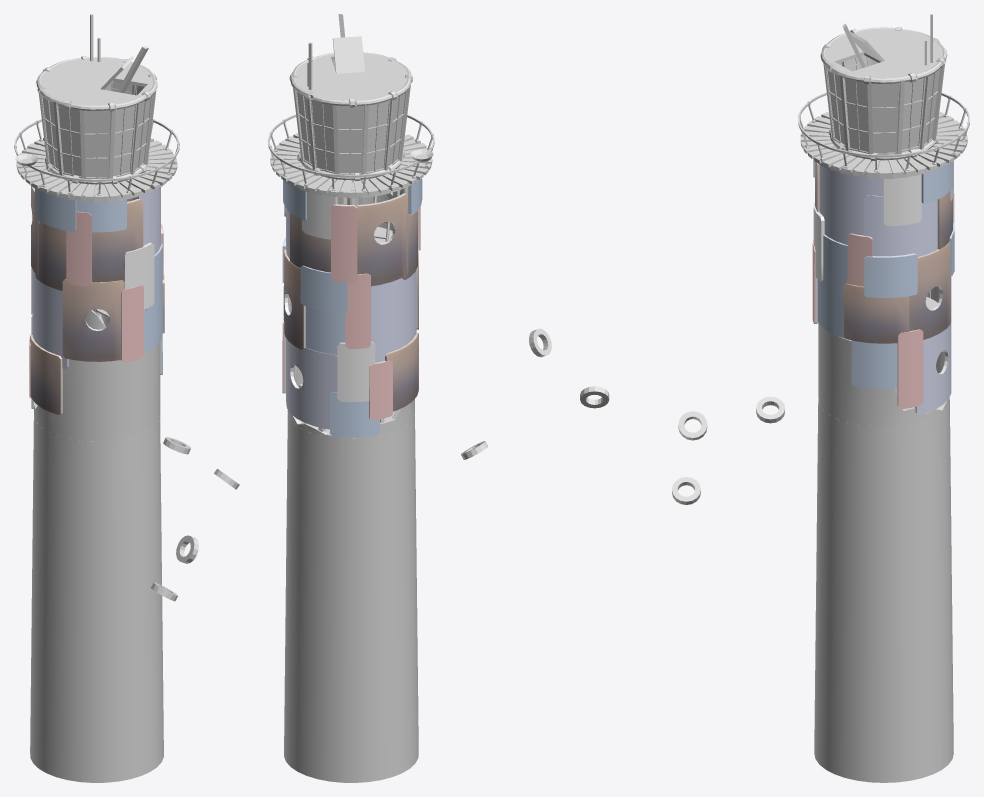
The model's file is TowerBlockout.fbx.
3 renders of one model, left to right at view 1: azimuth 30°, elevation 25°; view 2: azimuth 150°, elevation 25°; view 3: azimuth 270°, elevation 25°, orthographic. The views are drawn at different scales.
Visible parts, largest first — view 1: Cylinder.008, Cylinder.007, Panel_x5.005, Cylinder.003, Cube.003, Panel_x5.006, Panel_x7.002, Panel_x5.002, Panel_x5.007, Top Window.6, Panel_x2.004, Panel_x2.007 (+16 smaller); view 2: Cylinder.008, Panel_x5.008, Cylinder.003, Cube.003, Panel_x7.001, Panel_x7.002, Panel_x2.006, Panel_x3.001, Panel_x4.005, Panel_x2.003, Top Window.2, Panel_x5.002 (+18 smaller); view 3: Cylinder.008, Cylinder.007, Cube.003, Cylinder.003, Panel_x7.004, Panel_x5.001, Panel_x7.003, Panel_x5.003, Panel_x4.003, Panel_x4.001, Panel_x7.001, Panel_x2.001 (+13 smaller).
Boxes of the visible parts, left/top/right/bottom form: Cylinder.008: left=30, top=416, right=163, bottom=782; Cylinder.007: left=34, top=341, right=160, bottom=442; Panel_x5.005: left=62, top=279, right=124, bottom=361; Cylinder.003: left=40, top=57, right=154, bottom=107; Cube.003: left=16, top=137, right=177, bottom=199; Panel_x5.006: left=92, top=199, right=143, bottom=282; Panel_x7.002: left=32, top=269, right=68, bottom=369; Panel_x5.002: left=30, top=335, right=62, bottom=414; Panel_x5.007: left=35, top=218, right=66, bottom=290; Top Window.6: left=84, top=110, right=110, bottom=178; Panel_x2.004: left=121, top=285, right=144, bottom=362; Panel_x2.007: left=66, top=211, right=91, bottom=286; Cylinder.008: left=284, top=411, right=418, bottom=782; Panel_x5.008: left=356, top=193, right=408, bottom=286; Cylinder.003: left=293, top=53, right=409, bottom=104; Cube.003: left=270, top=133, right=432, bottom=195; Panel_x7.001: left=286, top=338, right=337, bottom=429; Panel_x7.002: left=371, top=270, right=416, bottom=362; Panel_x2.006: left=331, top=204, right=357, bottom=282; Panel_x3.001: left=337, top=341, right=375, bottom=402; Panel_x4.005: left=300, top=265, right=347, bottom=313; Panel_x2.003: left=345, top=273, right=370, bottom=348; Top Window.2: left=336, top=105, right=364, bottom=174; Panel_x5.002: left=385, top=332, right=418, bottom=411; Cylinder.008: left=814, top=398, right=953, bottom=782; Cylinder.007: left=818, top=323, right=949, bottom=428; Cube.003: left=800, top=111, right=967, bottom=176; Cylinder.003: left=824, top=28, right=944, bottom=79; Panel_x7.004: left=819, top=165, right=883, bottom=244; Panel_x5.001: left=844, top=283, right=909, bottom=343; Panel_x7.003: left=864, top=195, right=937, bottom=256; Panel_x5.003: left=909, top=241, right=951, bottom=339; Panel_x4.003: left=864, top=253, right=917, bottom=297; Panel_x4.001: left=851, top=340, right=897, bottom=388; Panel_x7.001: left=915, top=322, right=951, bottom=414; Panel_x2.001: left=897, top=329, right=923, bottom=408.
Size of the model in its own units: 28.09 by 127 by 60.03.
